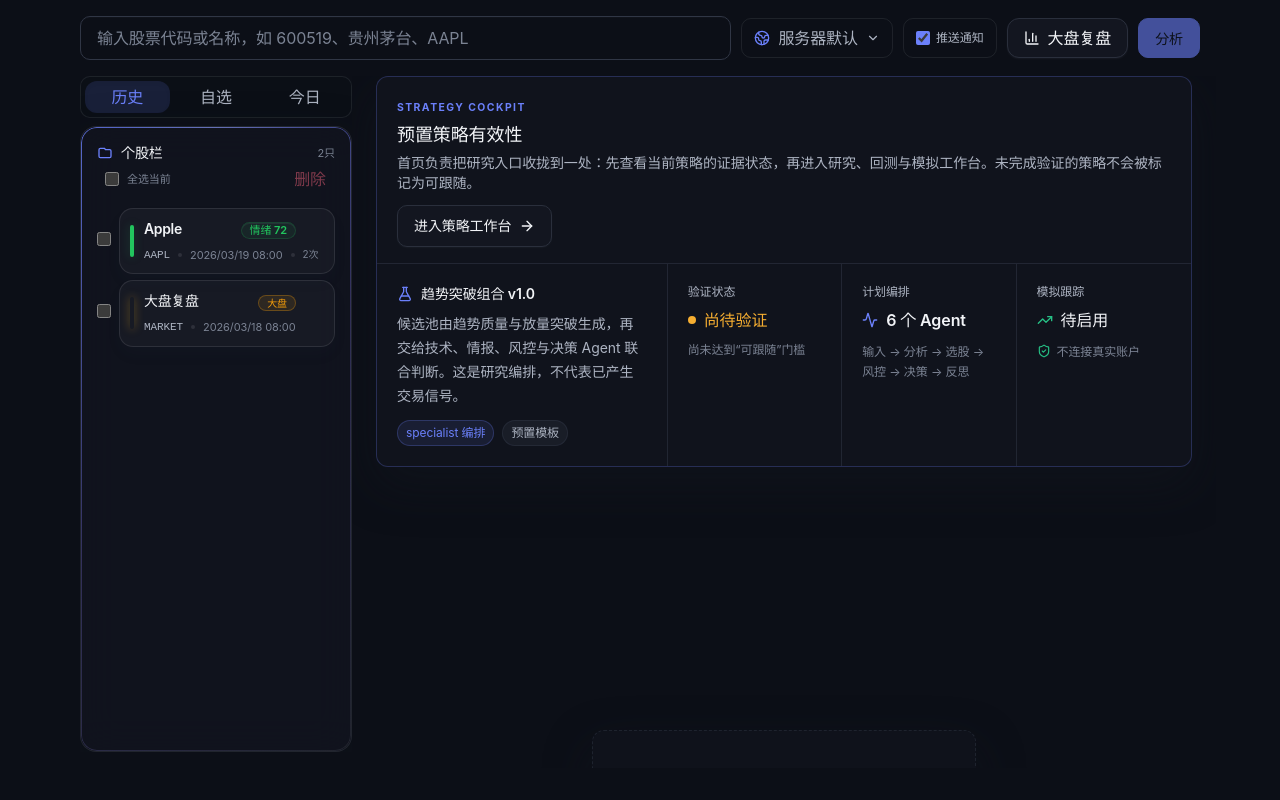
HomePage › shows market review history in the stock bar
Step 1. Click the button "大盘复盘 大盘 MARKET 2026/03/18 08:00" → (227, 313), box left=119, top=280, right=335, bottom=346
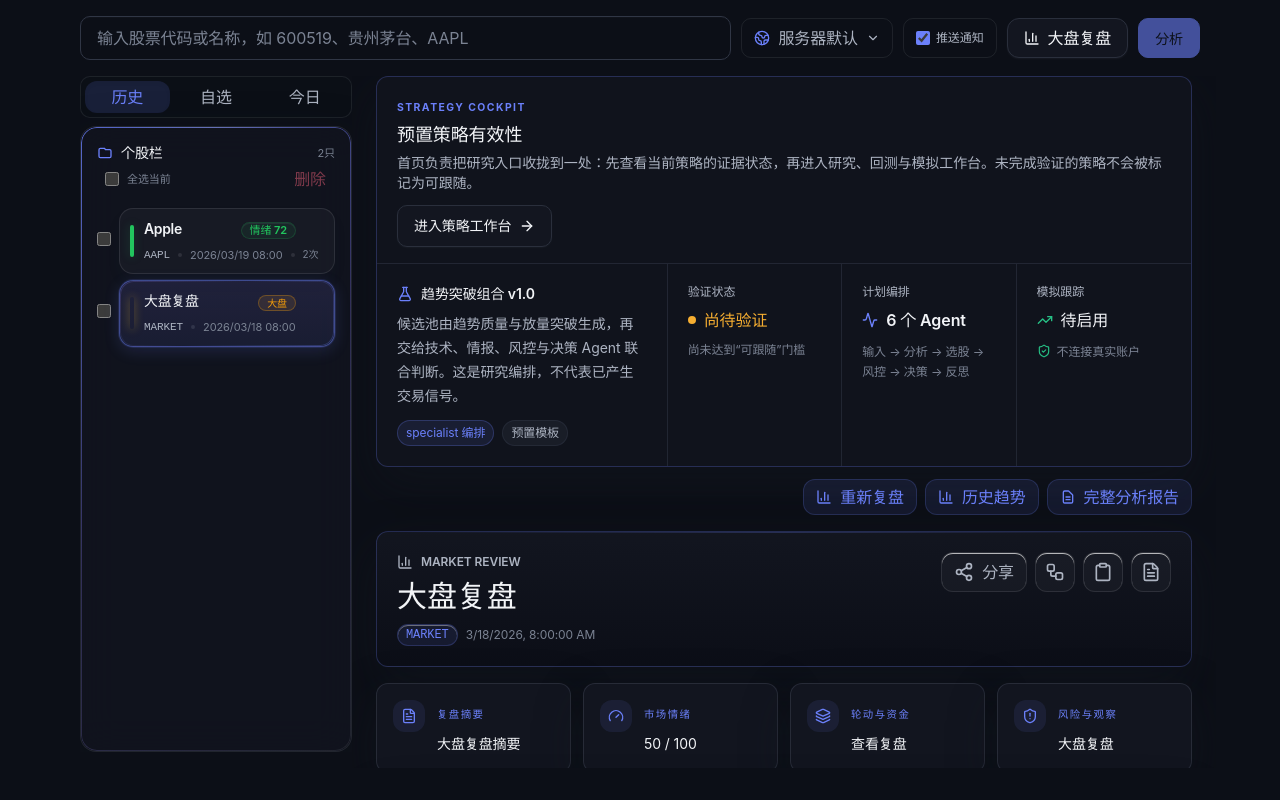
Now the text "大盘复盘摘要" is shown, box left=437, top=732, right=520, bottom=756
